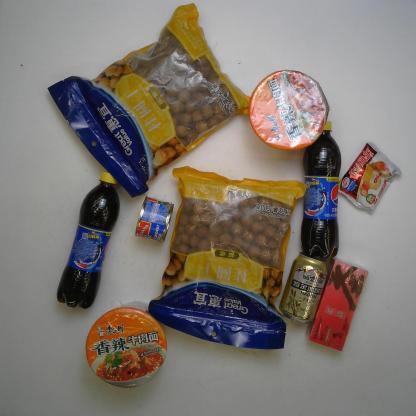Alcohol: (275, 249, 332, 328)
Canned Food: (132, 195, 175, 246)
Dessert: (334, 135, 405, 218)
Dried Food: (44, 2, 261, 200), (145, 161, 309, 353)
Drink: (54, 167, 125, 315), (298, 115, 342, 260)
Instant Drink: (304, 252, 369, 356)
Instant Noodles: (82, 305, 171, 391), (244, 69, 334, 152)
